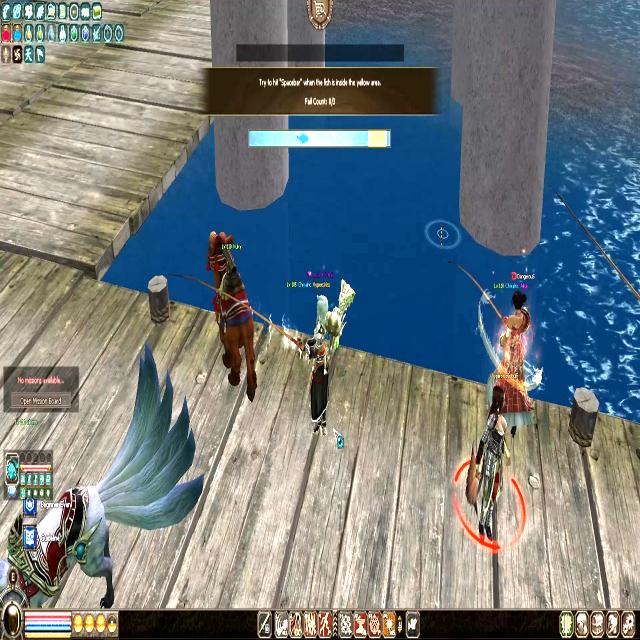fishes: (296, 132, 309, 144)
